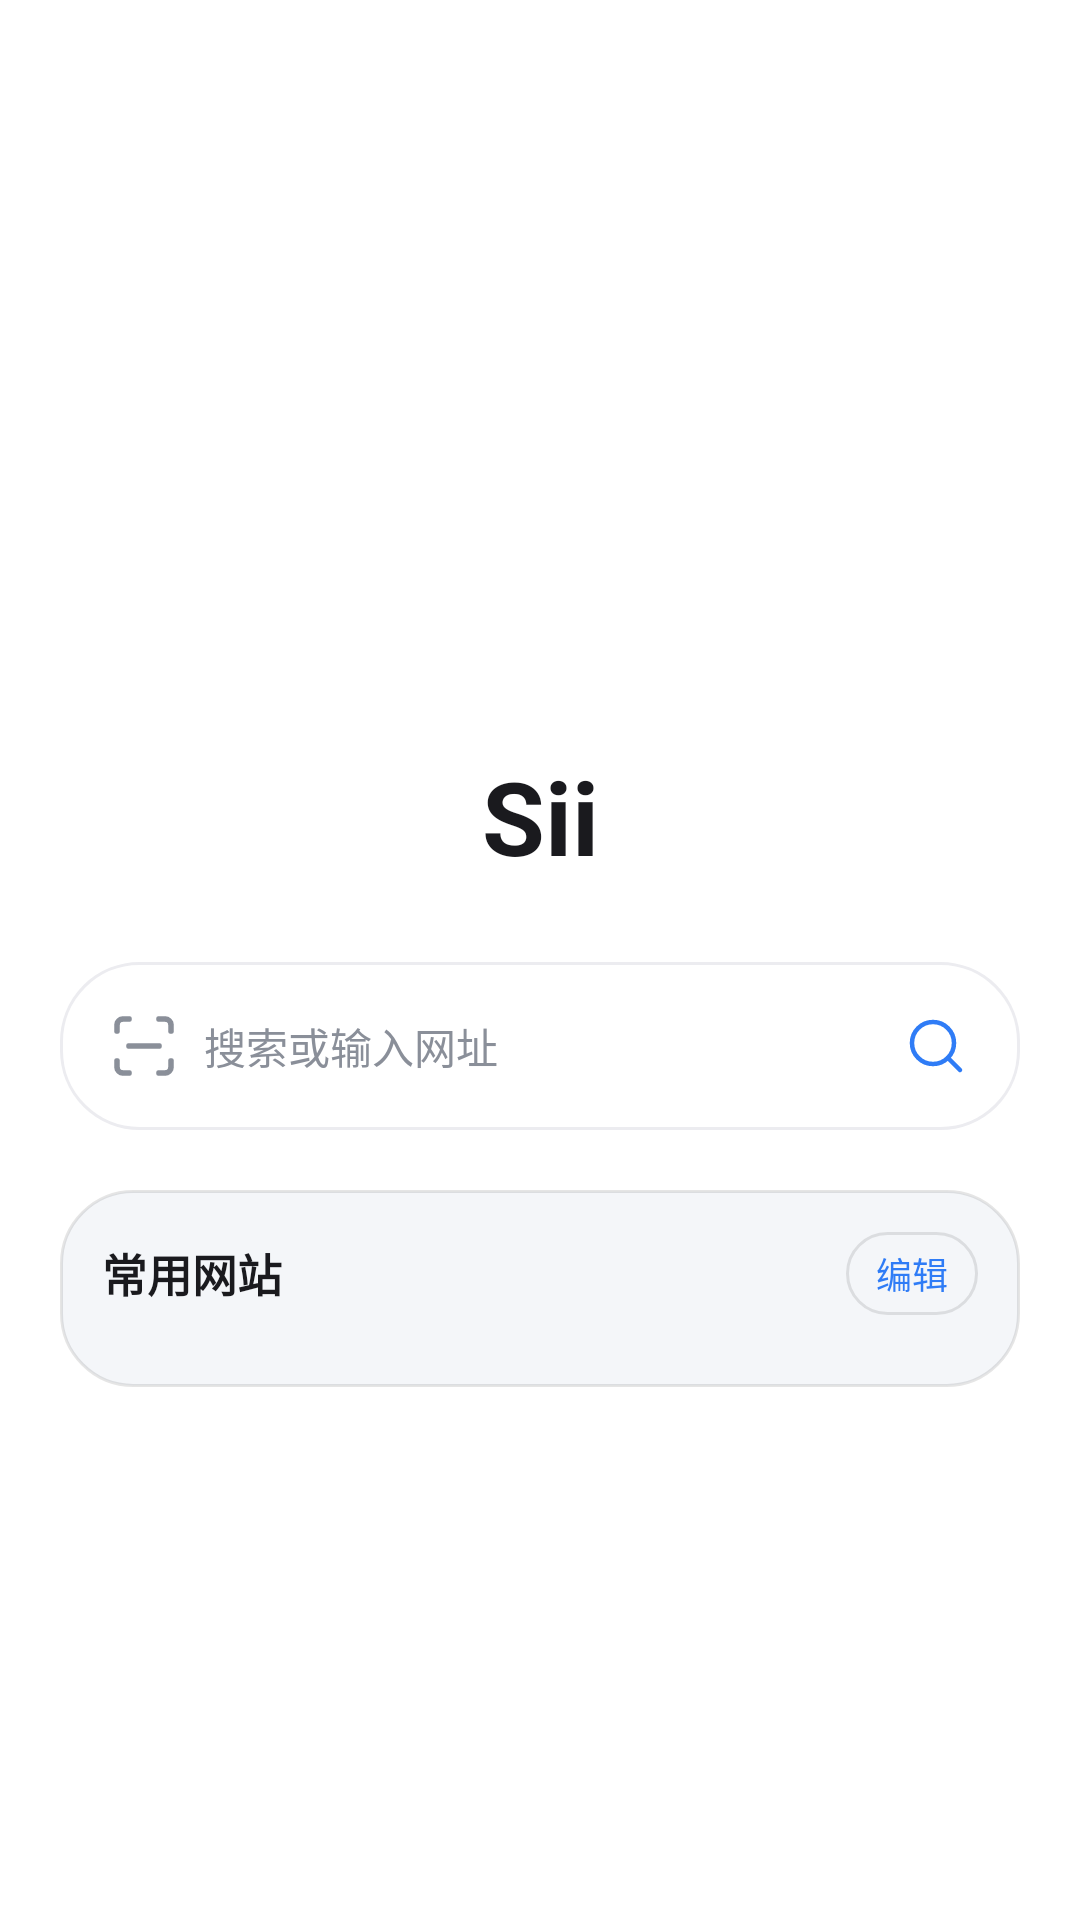

Screen size 1080 × 1920. Icon name, then its box in pixels as (x1, y1, x2, y2):
扫码: (114, 1016, 174, 1076)
